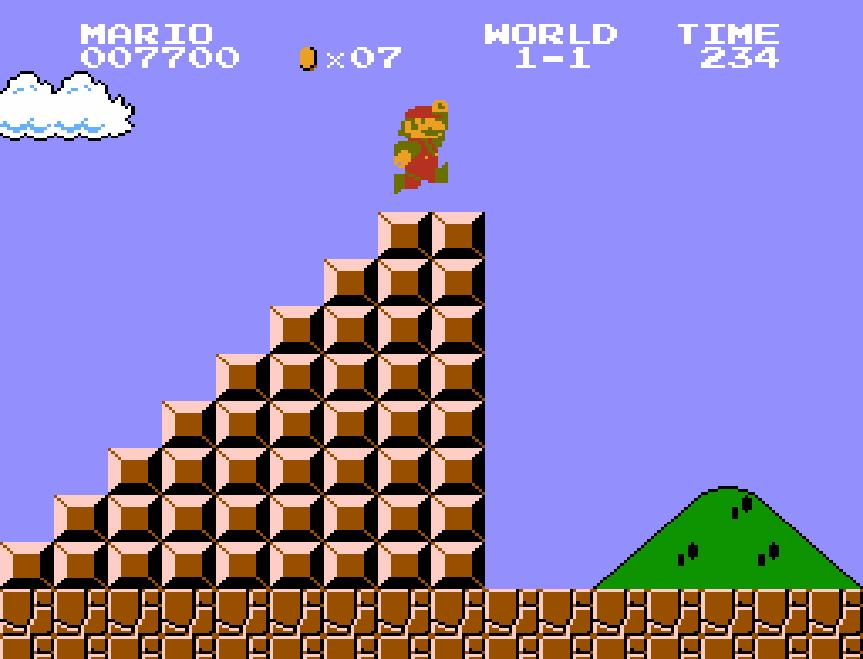big_mario: (392, 98, 450, 196)
